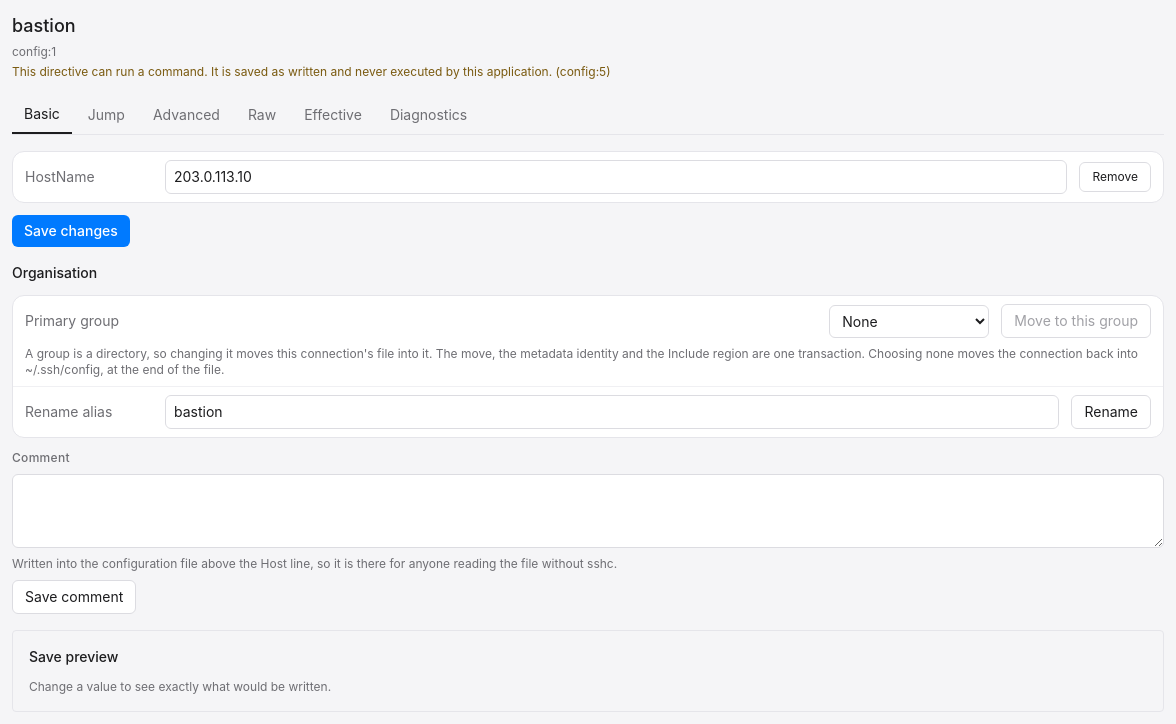
HostDetailPanel › marks executable directives instead of hiding them
Click the tab "Jump" at point(106, 115), box x1=76 y1=96 x2=137 y2=134
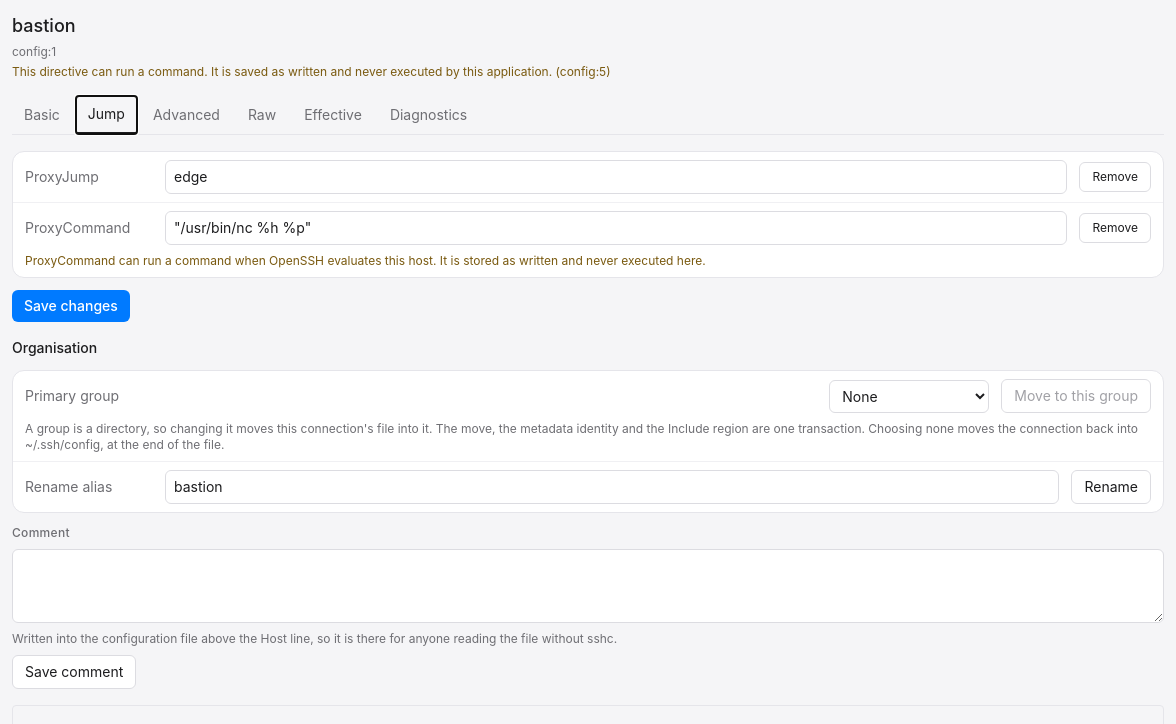
expect the text "ProxyCommand can run a command" is shown: met, box x1=25 y1=253 x2=706 y2=268
